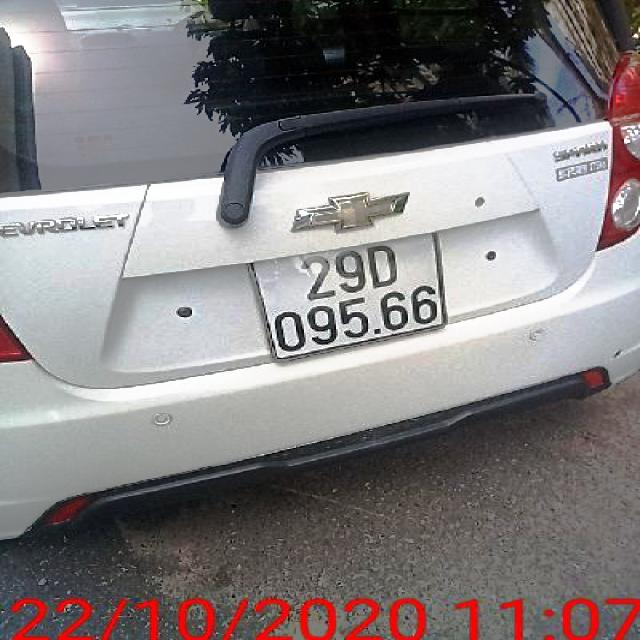license_plate: (257, 233, 448, 362)
